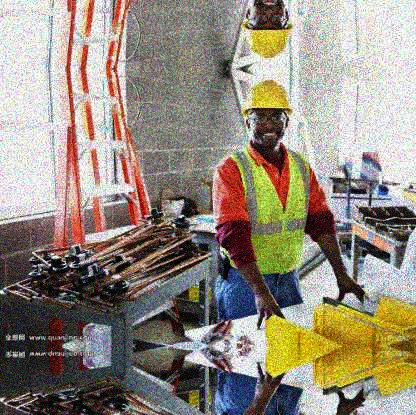helmet: (241, 78, 294, 149), (242, 1, 296, 60)
